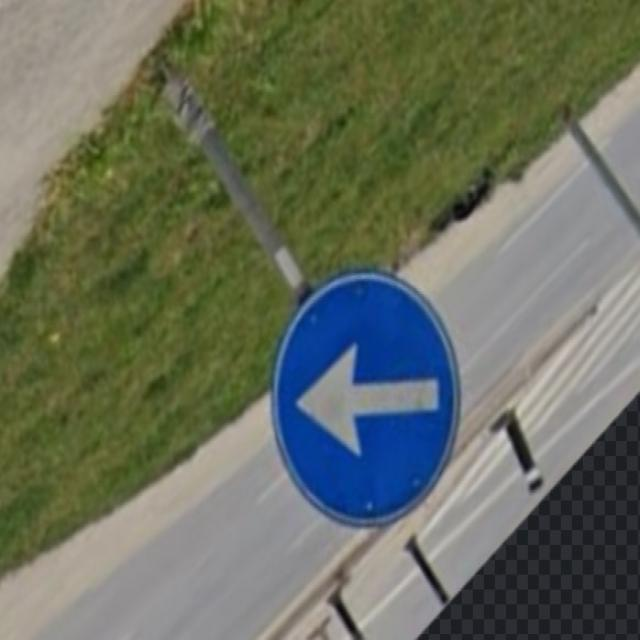Turn Left: (264, 277, 458, 531)
